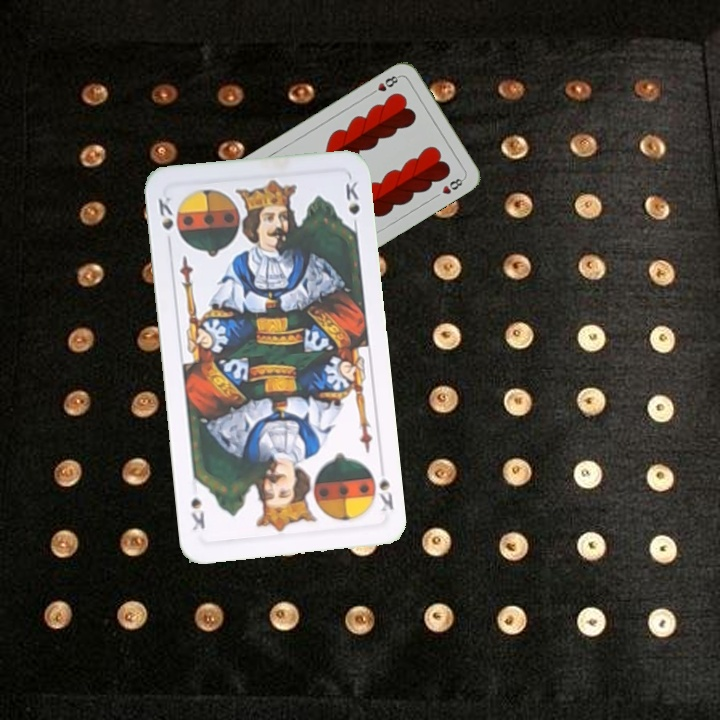H8: (366, 71, 403, 98)
SK: (154, 191, 176, 250), (374, 474, 397, 514)
